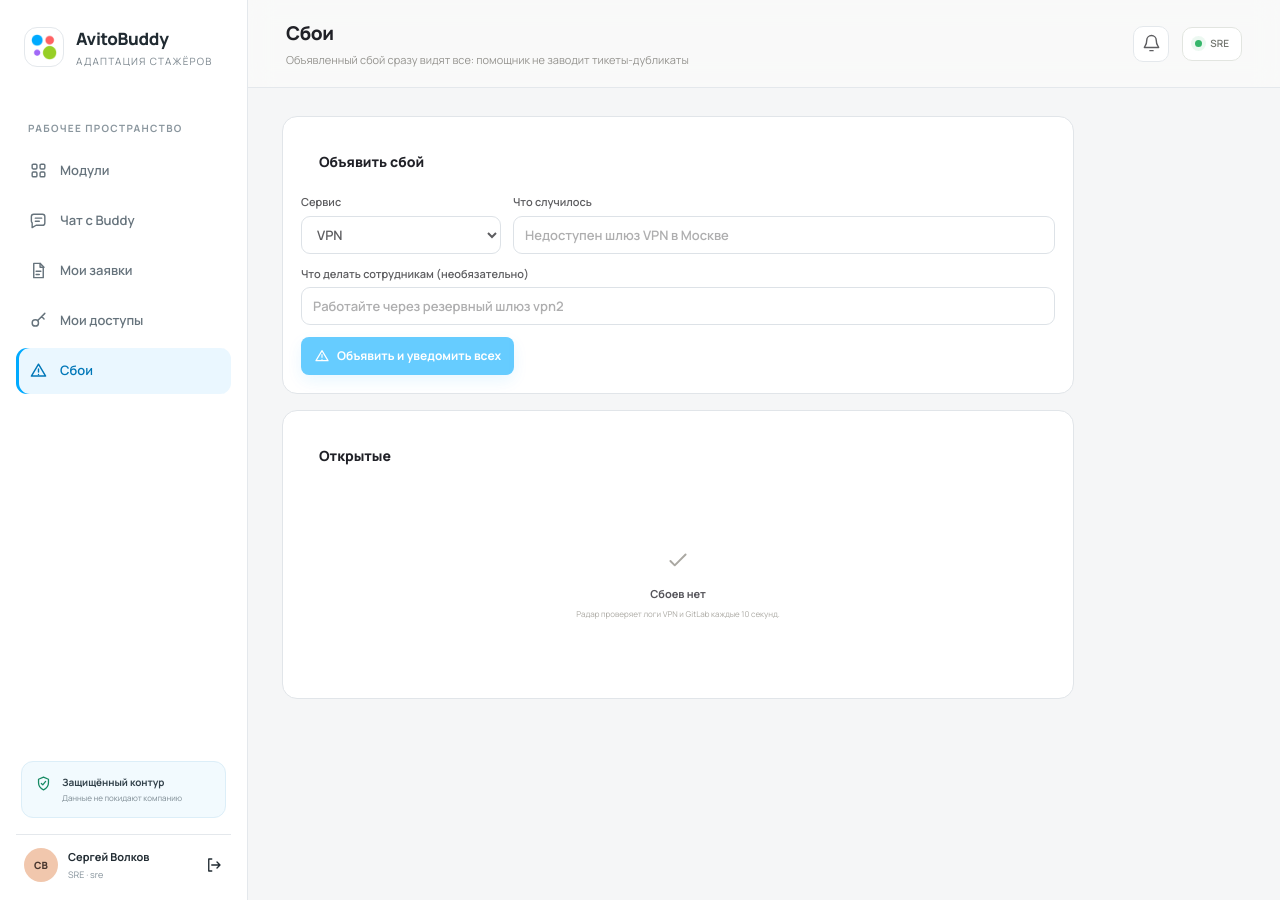
it: SRE и руководитель › SRE объявляет сбой, видит баннер и закрывает его
Expected: the text "Сбоев нет" is shown, [650,586,706,602]
Select "GitLab" in the dropdown at x=401, y=234, box [301,216,501,254]
Type "Не работает CI" into the field with placeholder "Недоступен шлюз VPN в Москве" at x=784, y=234, box [513,216,1055,254]
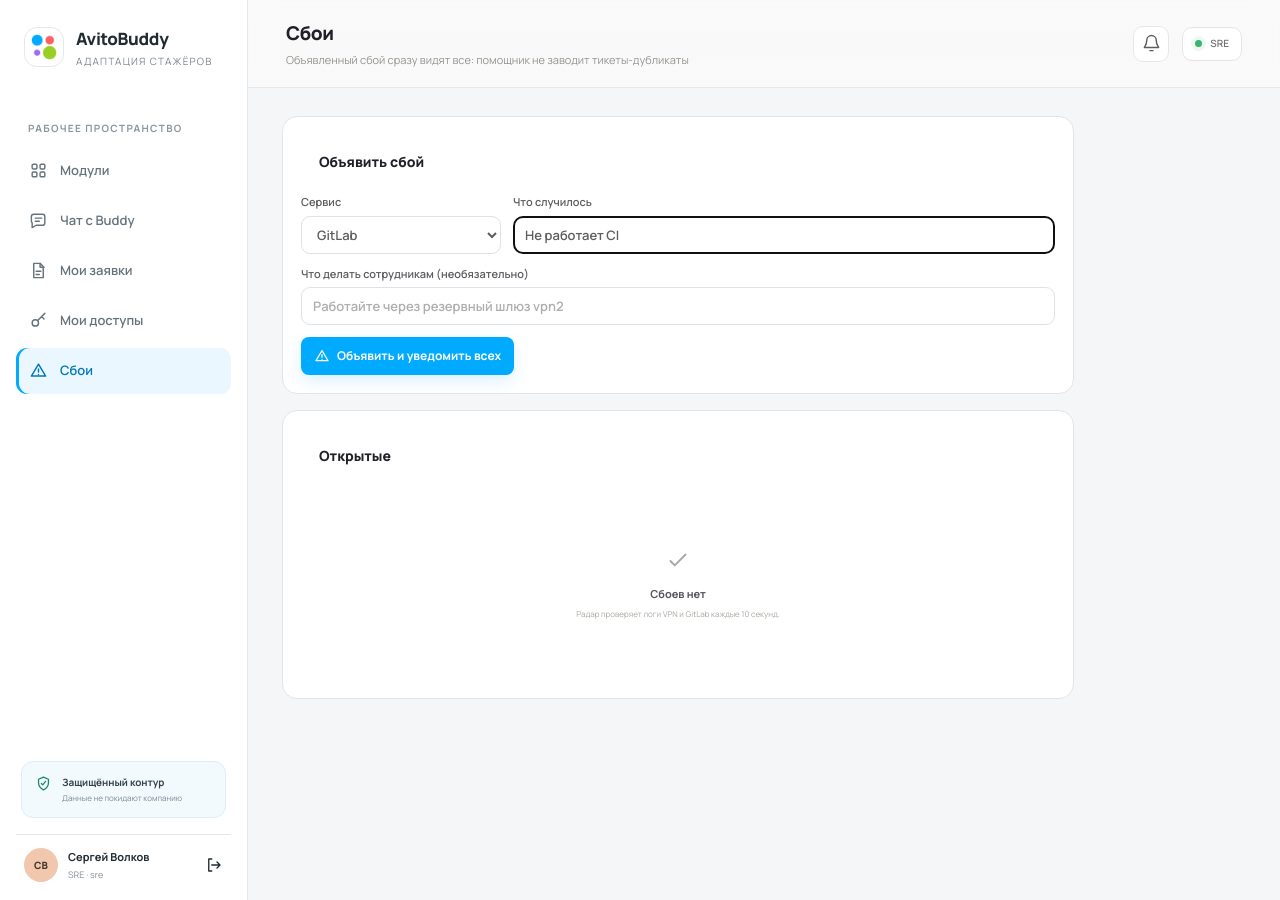
Type "Перезапускать пайплайны позже" into the field with placeholder "Работайте через резервный шлюз vpn2" at x=678, y=306, box [301,287,1055,325]
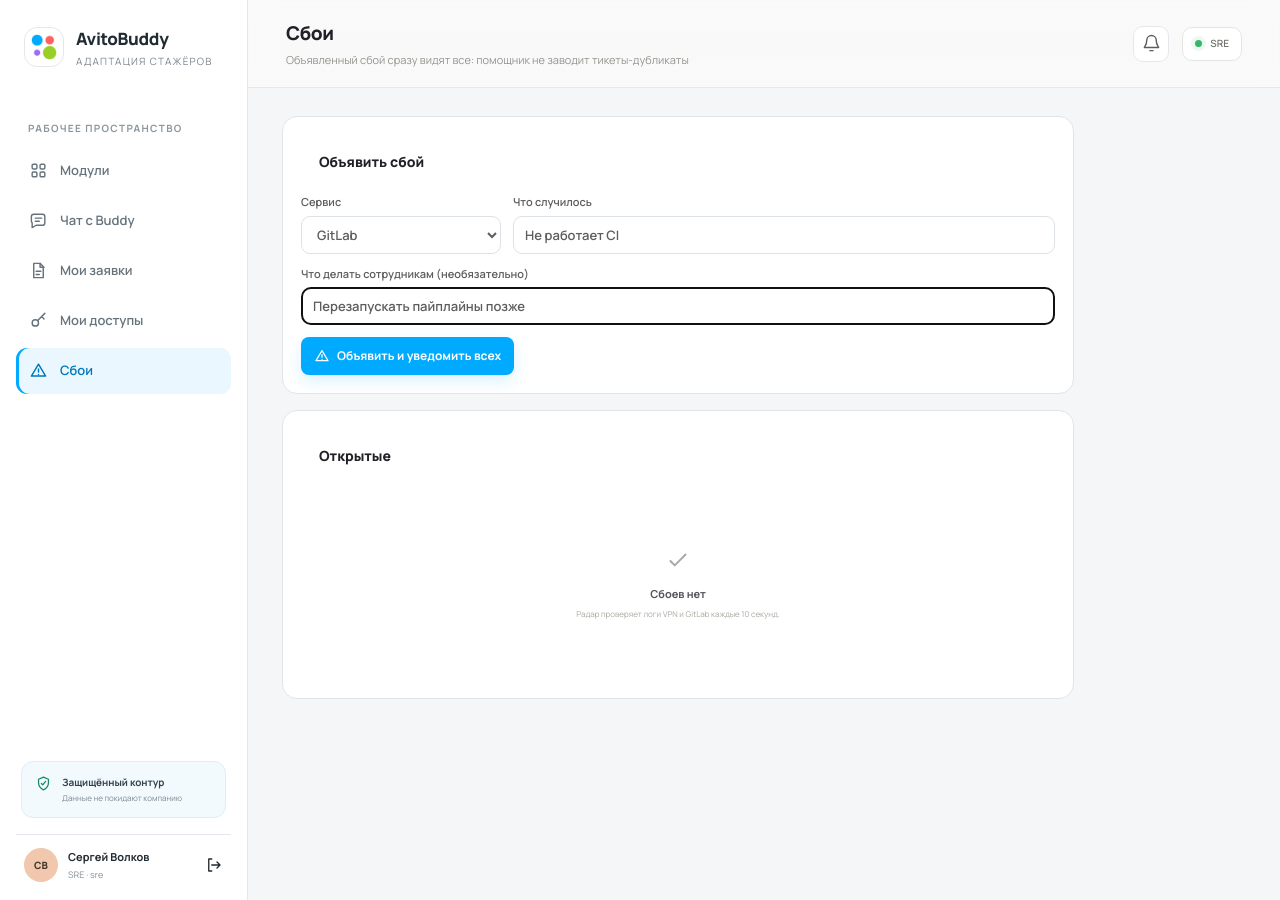
Click the button "Объявить и уведомить всех" at x=408, y=356, box [301,337,514,375]
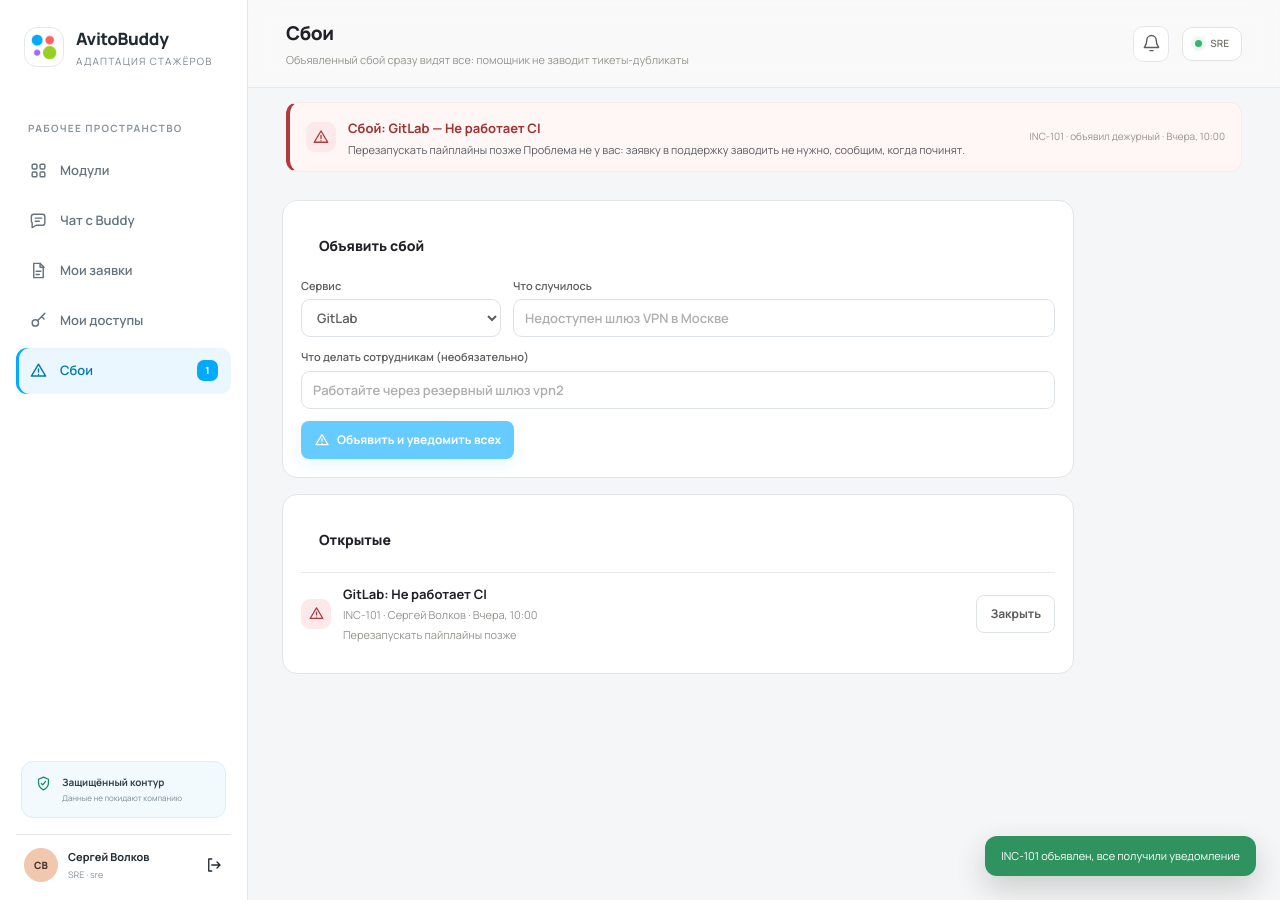
Now the text "INC-101 объявлен, все получили уведомление" is shown, box [985,836,1256,876]
Now the text "INC-101 · объявил дежурный · Вчера, 10:00" is shown, box [1030,129,1225,144]
# повторное объявление - ошибка с сервера
Type "Еще раз" into the field with placeholder "Недоступен шлюз VPN в Москве" at x=784, y=318, box [513,299,1055,337]
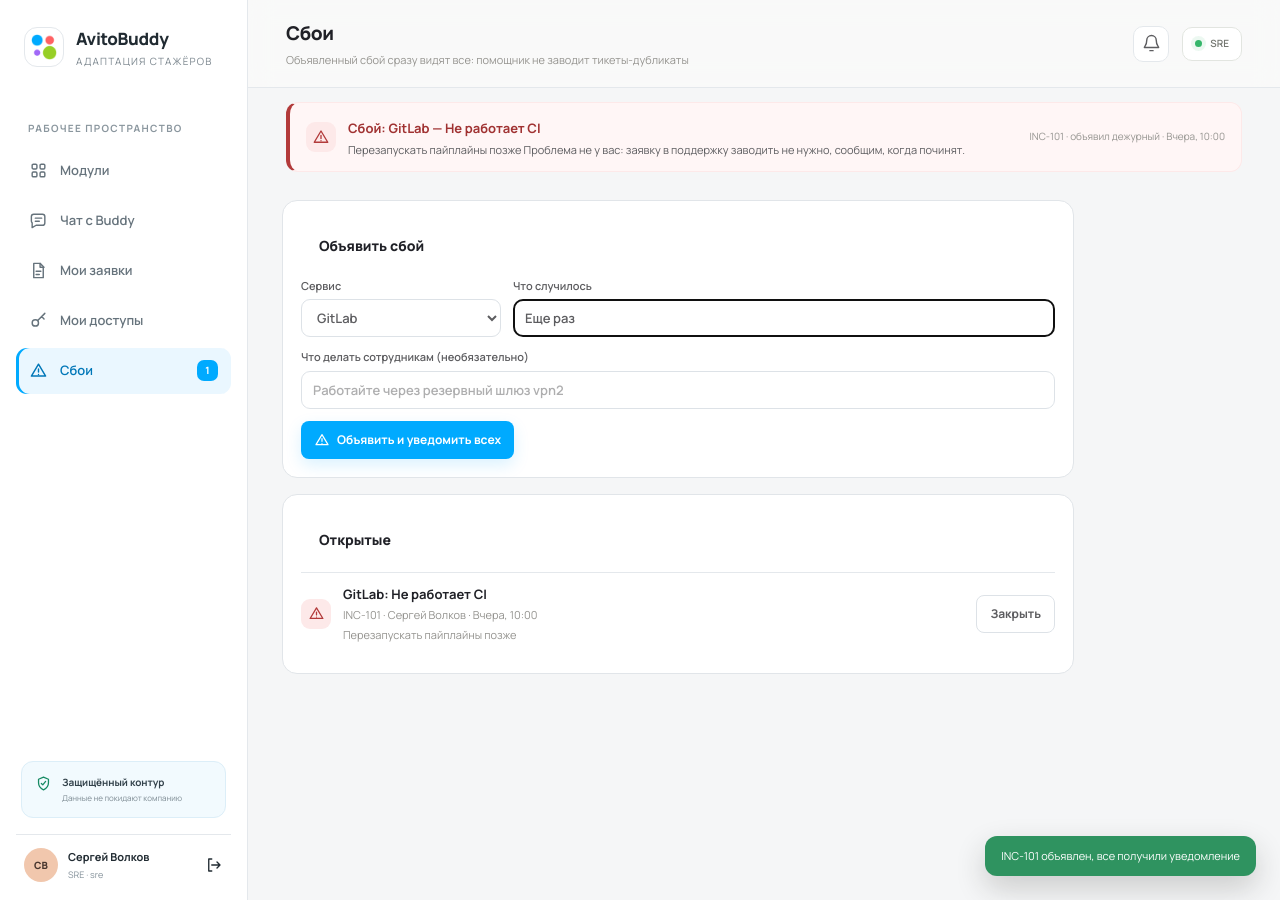
Click the button "Объявить и уведомить всех" at x=408, y=440, box [301,420,514,458]
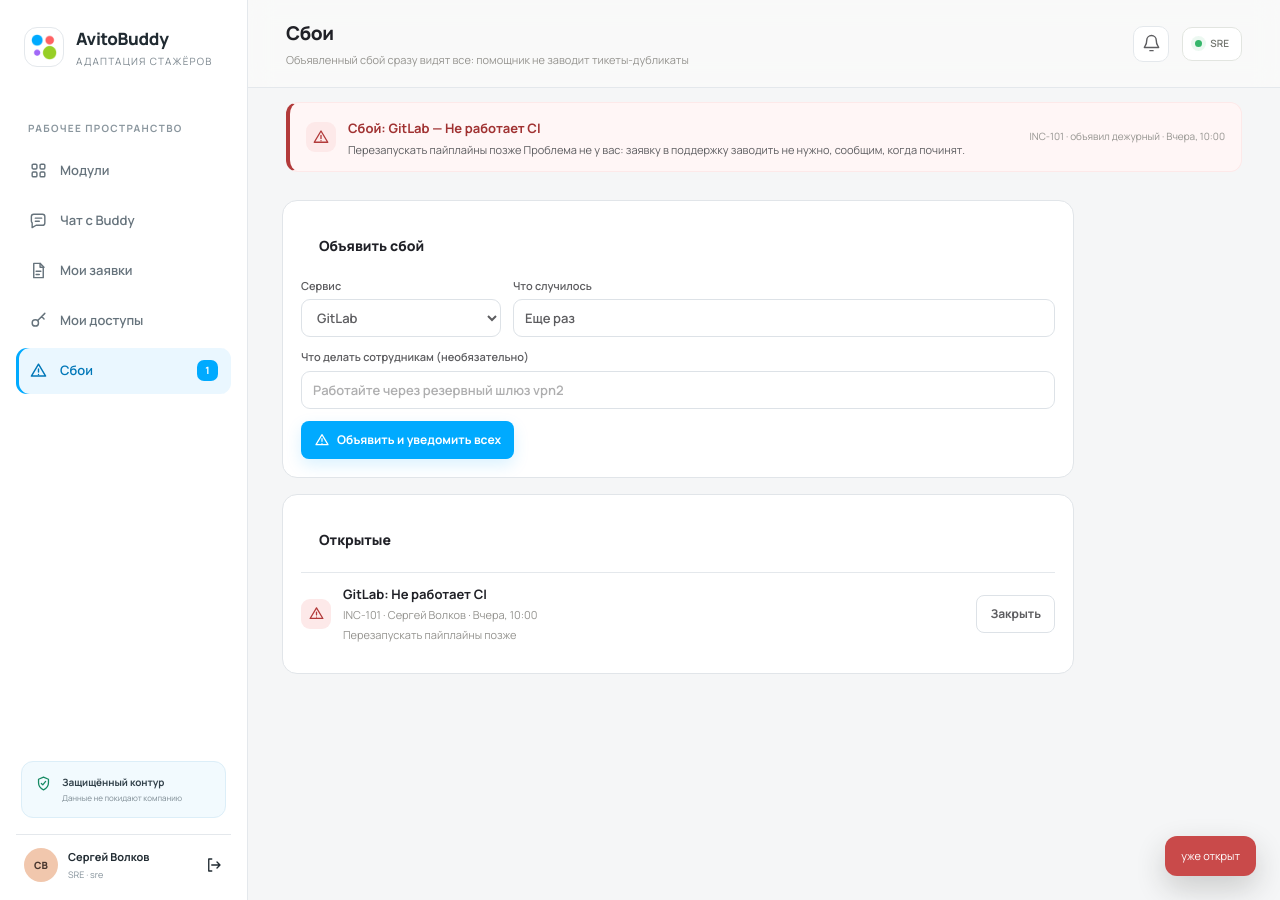
Now the text "уже открыт" is shown, box [1165,836,1256,876]
Click the button "Закрыть" at x=1016, y=614, box [976,595,1055,633]
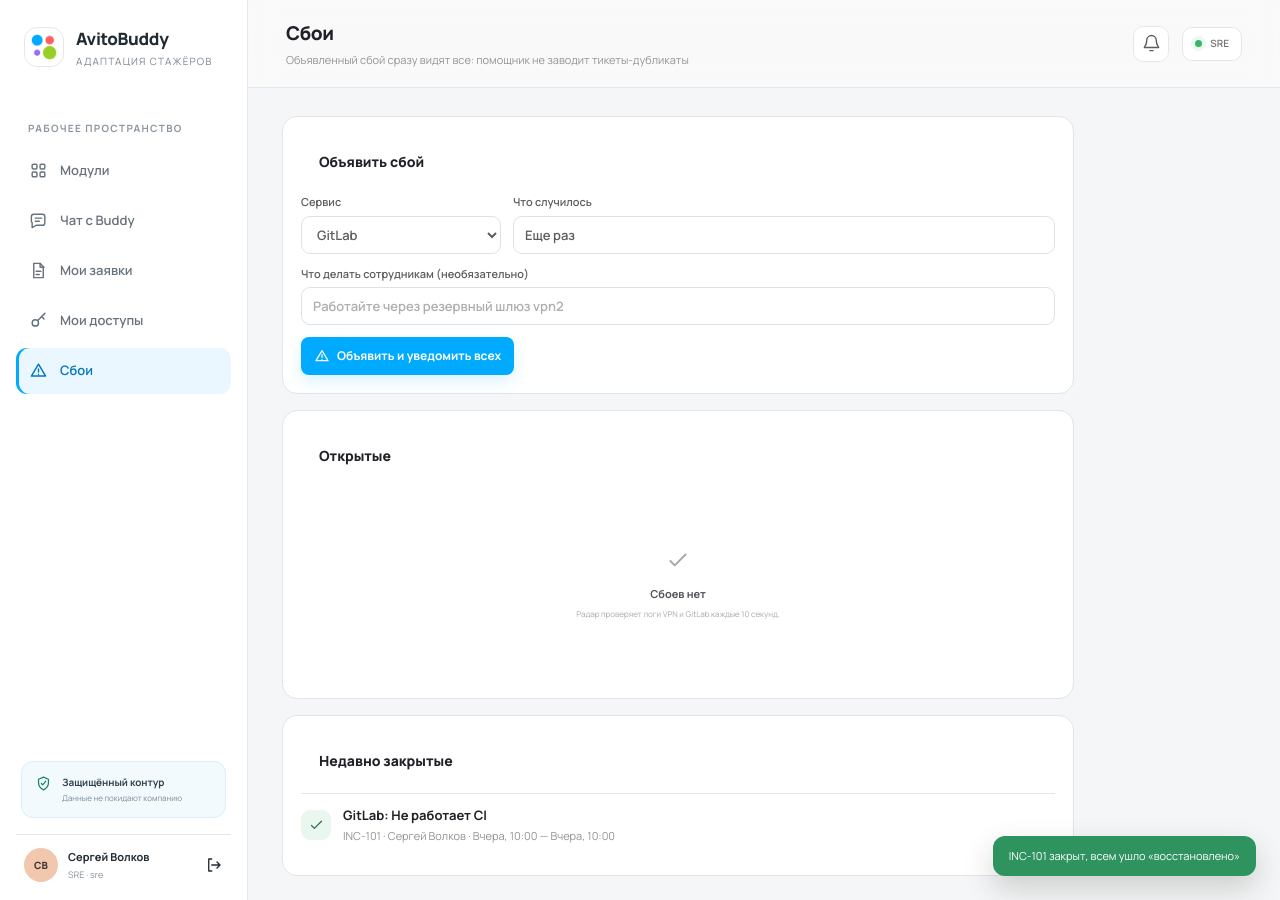
Now the heading "Недавно закрытые" is shown, box [319,750,453,770]
